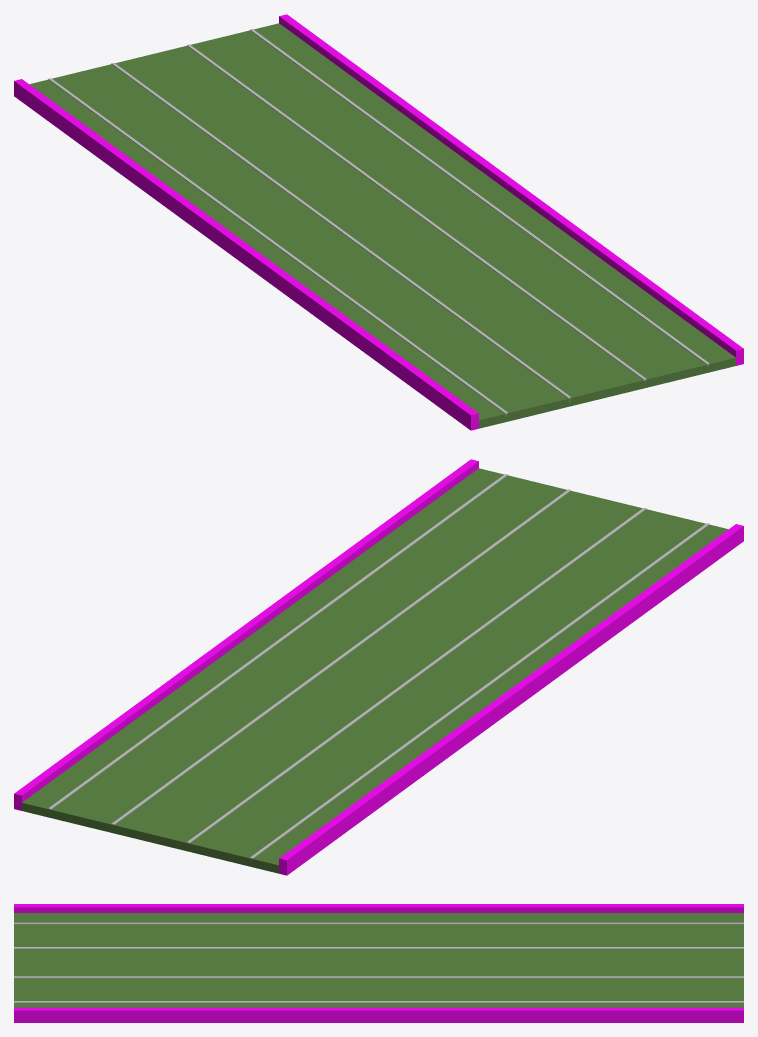
The model's file is PT_TramTrack_Grass_20m.fbx.
3 views of the same model, one above another, from view 1: azimuth 30°, elevation 25°; view 2: azimuth 150°, elevation 25°; view 3: azimuth 270°, elevation 25° (orthographic). The views are drawn at different scales.
Parts seen in each view (by area): view 1: Bed_Grass, COL_Bed, Rails; view 2: Bed_Grass, COL_Bed, Rails; view 3: Bed_Grass, COL_Bed, Rails.
Part boxes in pixels (bbox=[...]): Bed_Grass: bbox=[29, 23, 735, 428]; COL_Bed: bbox=[14, 14, 743, 430]; Rails: bbox=[48, 29, 709, 416]; Bed_Grass: bbox=[22, 468, 728, 873]; COL_Bed: bbox=[14, 459, 743, 875]; Rails: bbox=[48, 474, 709, 861]; Bed_Grass: bbox=[14, 913, 743, 1007]; COL_Bed: bbox=[14, 904, 743, 1022]; Rails: bbox=[14, 922, 743, 1002].
Bounding box in the file's own units: 6.9 × 0.37 × 20.
